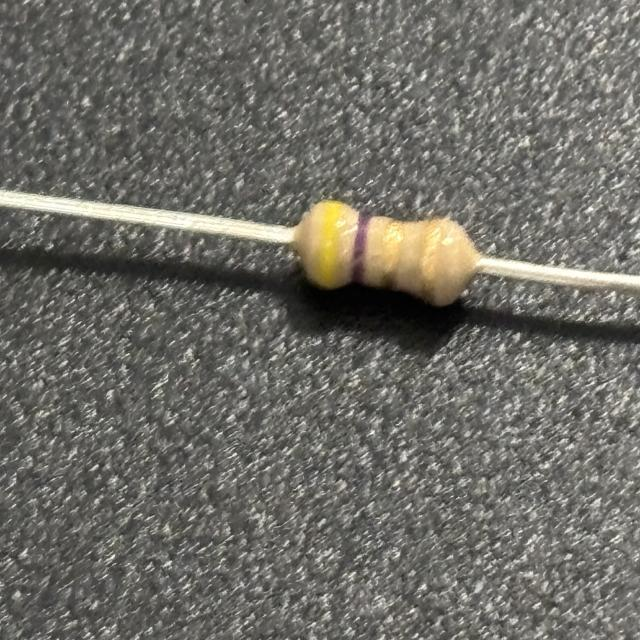resistor: (303, 195, 461, 311)
